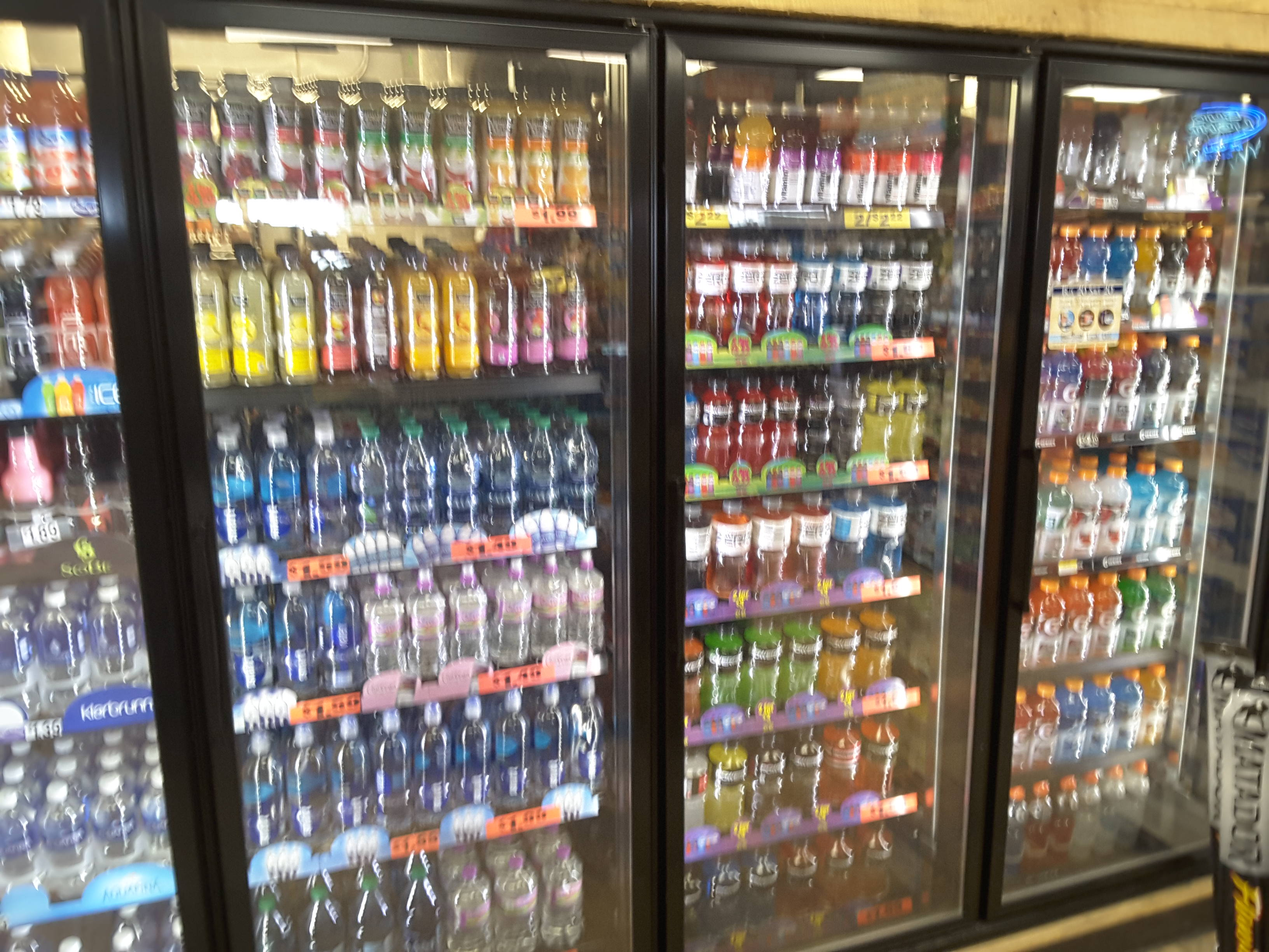Bottle: (40, 234, 110, 408), (27, 54, 86, 213), (200, 422, 255, 587), (46, 420, 105, 571), (255, 420, 306, 581), (85, 574, 139, 714), (270, 233, 316, 393), (306, 420, 351, 583), (0, 420, 45, 583), (33, 583, 83, 728), (174, 65, 222, 213), (262, 67, 308, 220), (351, 419, 397, 571), (396, 414, 440, 571), (227, 236, 271, 393), (517, 405, 566, 544), (366, 700, 411, 849), (399, 234, 443, 386), (453, 686, 498, 833), (357, 230, 398, 390), (4, 234, 40, 415), (127, 772, 178, 899), (317, 233, 358, 390), (35, 779, 84, 907), (84, 765, 128, 907), (243, 721, 286, 866), (410, 691, 452, 839), (222, 65, 262, 220), (905, 84, 952, 213), (105, 417, 144, 571), (325, 712, 367, 853), (348, 73, 393, 204), (270, 582, 316, 709), (435, 76, 477, 214), (540, 830, 589, 948), (444, 558, 491, 681), (1049, 83, 1095, 206), (440, 414, 479, 559), (554, 75, 595, 212), (481, 241, 520, 385), (556, 245, 594, 392), (443, 241, 481, 386), (689, 229, 731, 359), (193, 231, 227, 390), (394, 75, 436, 203), (441, 850, 493, 952), (481, 408, 517, 555), (495, 831, 540, 948), (566, 402, 603, 544), (286, 721, 325, 853), (227, 586, 269, 707), (517, 79, 555, 212), (492, 556, 534, 676), (317, 585, 359, 705), (763, 224, 799, 363), (363, 573, 405, 692), (860, 710, 905, 821), (479, 79, 516, 213), (566, 676, 604, 806), (310, 72, 348, 202), (499, 677, 533, 821), (800, 227, 837, 359), (752, 486, 790, 614), (799, 357, 837, 485), (870, 489, 915, 597), (792, 489, 832, 609), (742, 616, 781, 737), (520, 243, 553, 385), (831, 488, 870, 608), (404, 571, 444, 688), (808, 86, 844, 215), (816, 824, 855, 942), (733, 91, 771, 212), (900, 224, 935, 355), (745, 736, 791, 835), (0, 774, 33, 912), (844, 88, 880, 214), (738, 837, 780, 945), (1168, 320, 1205, 441), (0, 585, 30, 734), (772, 88, 808, 212), (714, 498, 752, 614), (856, 824, 900, 924), (731, 230, 764, 363), (1044, 330, 1084, 439), (533, 677, 566, 807), (783, 609, 823, 716), (736, 364, 771, 486), (866, 357, 898, 490), (706, 618, 742, 736), (567, 547, 603, 665), (1050, 209, 1084, 329), (535, 546, 566, 676), (779, 837, 816, 944), (1034, 459, 1071, 565), (675, 94, 710, 206), (858, 607, 898, 704), (1111, 320, 1142, 444), (1186, 199, 1217, 322), (898, 357, 930, 476), (705, 372, 737, 488), (1127, 752, 1156, 880), (838, 225, 867, 352), (2, 54, 27, 201), (869, 224, 898, 348), (839, 357, 866, 490), (1174, 97, 1212, 191), (1157, 451, 1191, 555), (791, 728, 827, 826), (403, 850, 439, 948), (1149, 558, 1183, 661), (828, 709, 860, 817), (1002, 775, 1029, 900), (823, 606, 857, 705), (680, 738, 713, 839), (1120, 90, 1149, 204), (772, 364, 799, 485), (1141, 320, 1168, 440), (1053, 764, 1078, 893), (1108, 207, 1136, 322), (685, 496, 712, 613), (880, 88, 905, 213), (1102, 454, 1132, 557), (1085, 330, 1112, 444), (713, 739, 745, 835), (1103, 752, 1126, 883), (1162, 198, 1187, 318), (1072, 458, 1102, 556), (1143, 663, 1178, 747), (1079, 765, 1103, 885), (1096, 85, 1120, 204), (682, 619, 706, 737), (1136, 208, 1161, 319), (1035, 578, 1066, 667), (705, 855, 736, 943), (1030, 776, 1052, 898), (1124, 557, 1150, 660), (1093, 565, 1121, 658), (1067, 565, 1092, 667), (1149, 90, 1174, 191), (1084, 208, 1106, 322), (1087, 672, 1117, 754), (1009, 682, 1035, 774), (1035, 676, 1064, 758), (1133, 453, 1156, 556), (685, 371, 705, 488), (680, 855, 705, 948), (1118, 664, 1143, 754), (1012, 582, 1036, 671), (1212, 97, 1234, 194), (1063, 672, 1086, 757)
